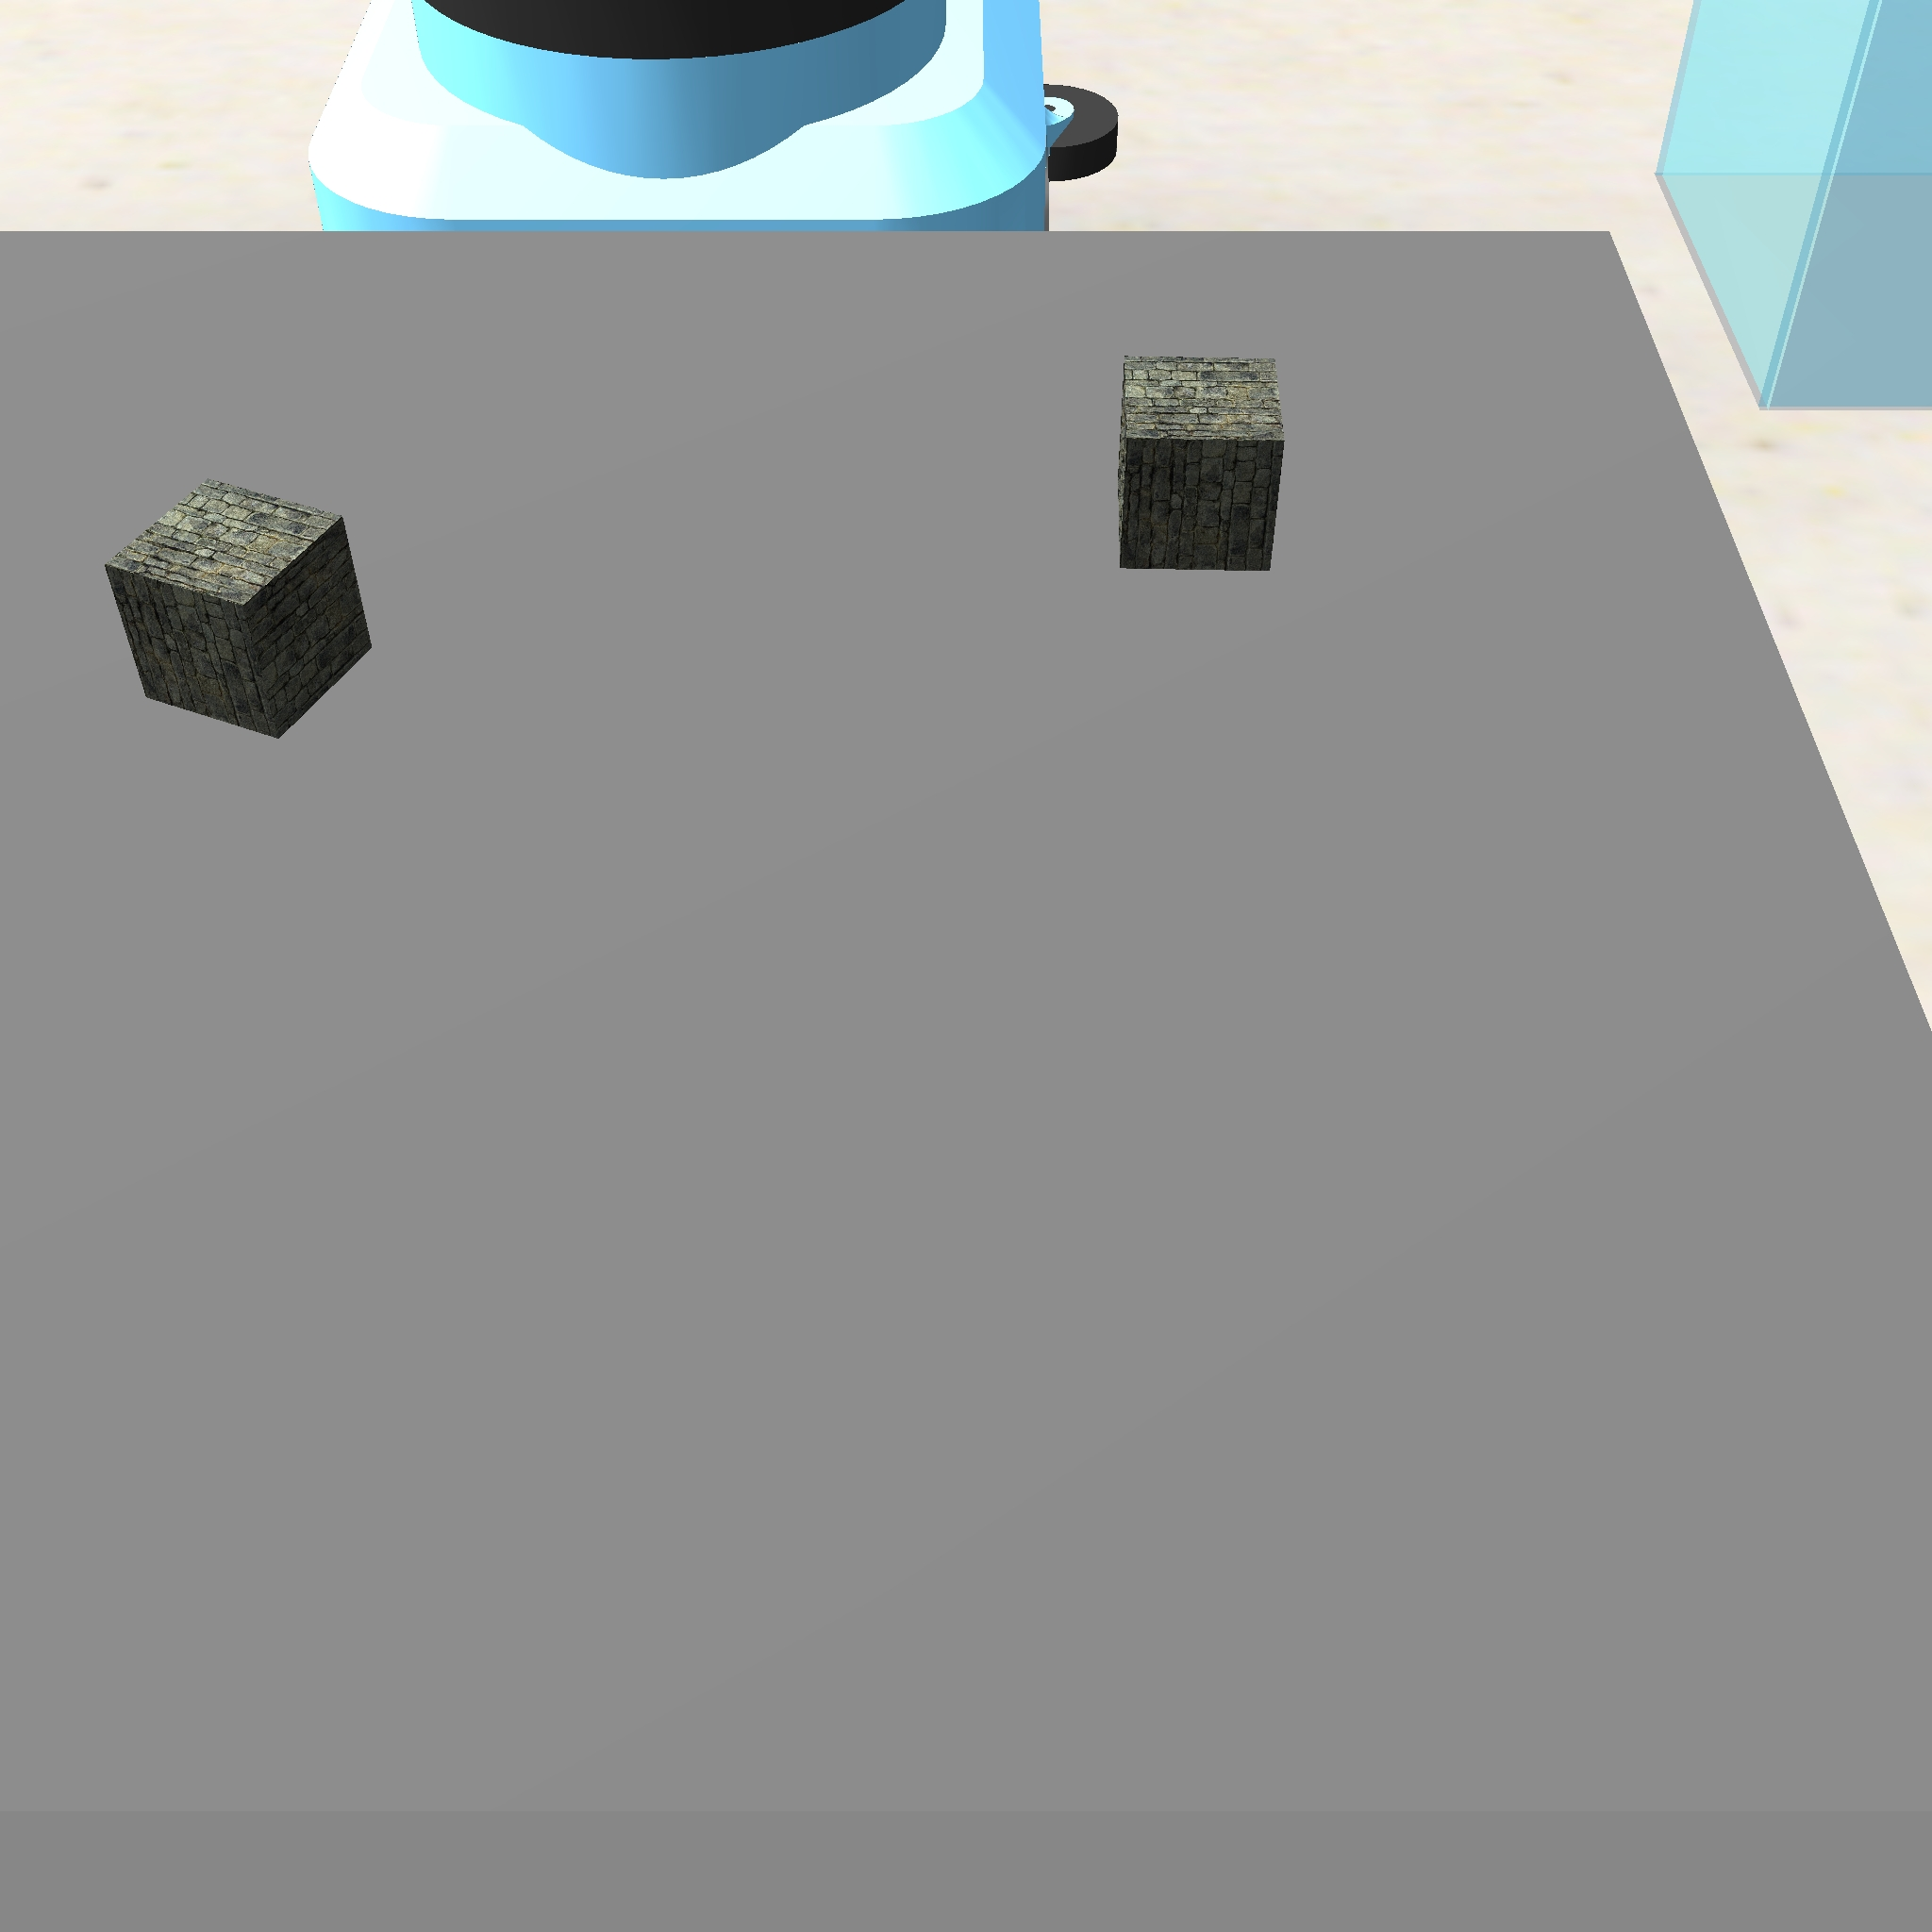cube: (96, 471, 379, 748), (1104, 340, 1295, 579)
